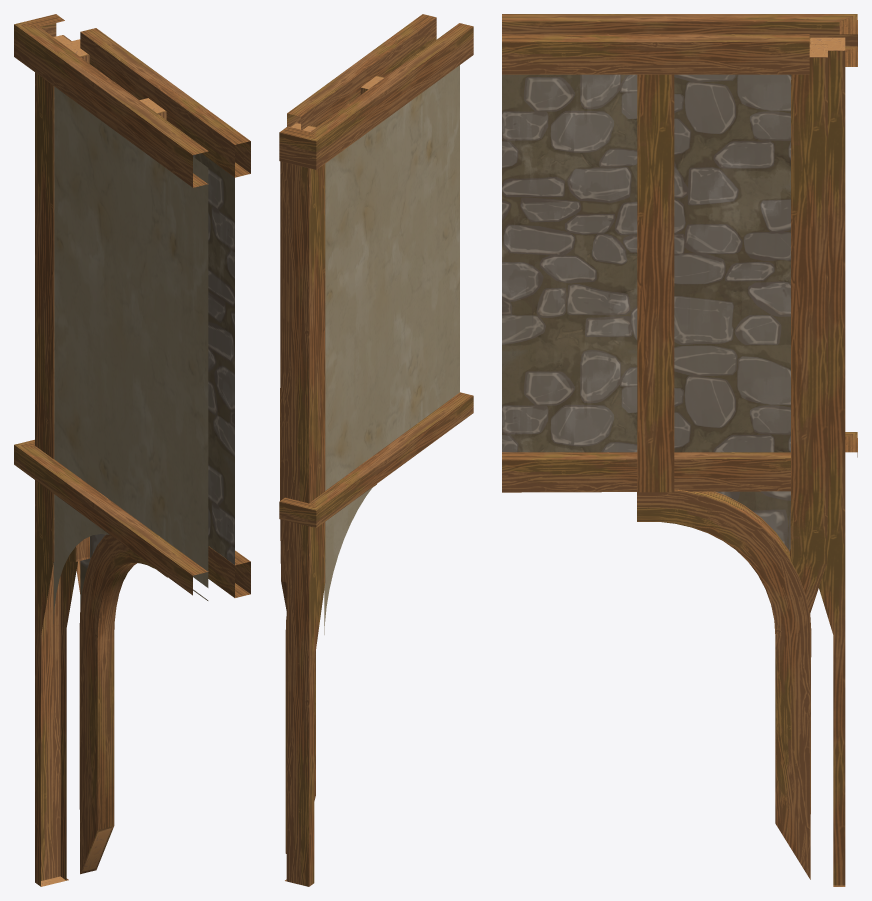
Rendered from Overhang_Side_UnevenBrick_Long_R.gltf.
3 renders of one model, left to right at view 1: azimuth 30°, elevation 25°; view 2: azimuth 150°, elevation 25°; view 3: azimuth 270°, elevation 25°, orthographic. The views are drawn at different scales.
Visible parts, largest first — view 1: Overhang_Side_UnevenBrick_Long_R; view 2: Overhang_Side_UnevenBrick_Long_R; view 3: Overhang_Side_UnevenBrick_Long_R.
Part boxes in pixels (x1,y1,x2,y2): Overhang_Side_UnevenBrick_Long_R: (14,14,250,886); Overhang_Side_UnevenBrick_Long_R: (279,14,473,886); Overhang_Side_UnevenBrick_Long_R: (502,14,857,886).
Bounding box in the file's own units: 0.4794 × 6.12 × 2.31.
3 materials, 3 textured.
